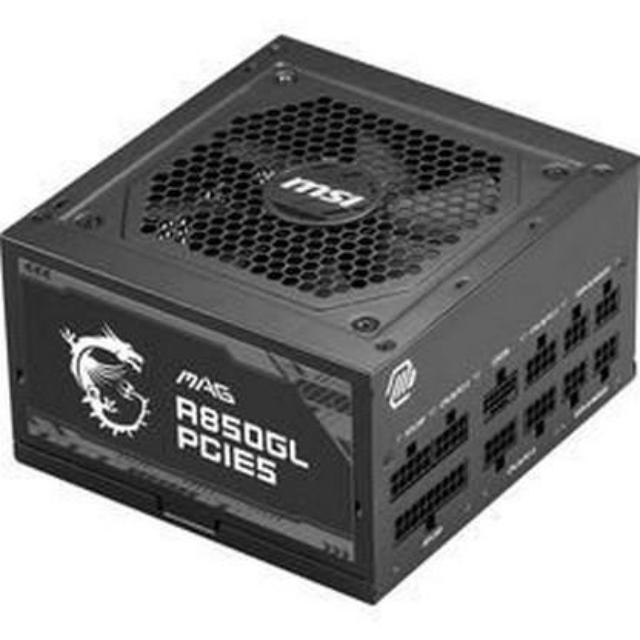PSU: (0, 20, 640, 602)
